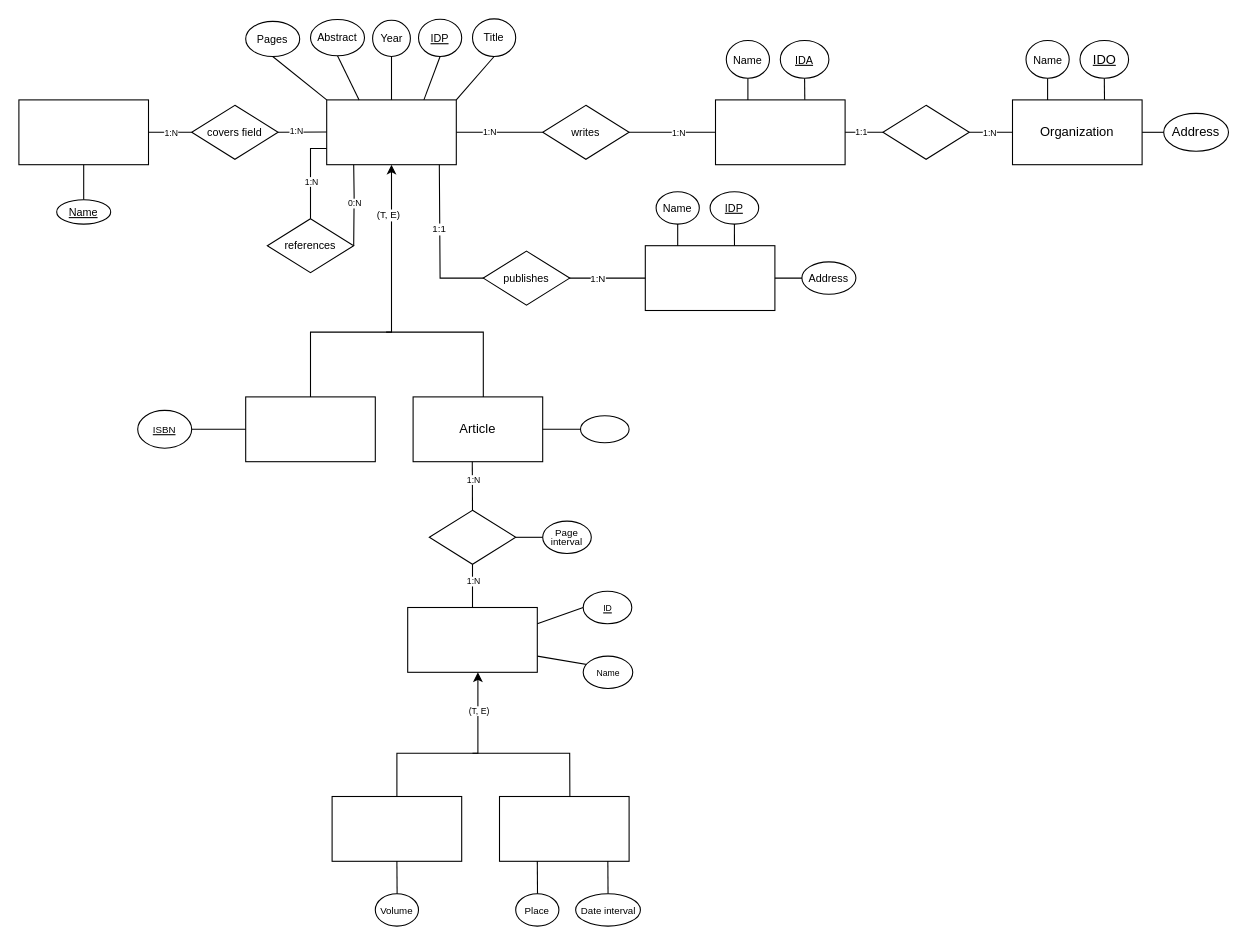
The diagram is 1247 pixels wide and 945 high, and some of its shapes have lost their labels. The shapes that lost their labels are listed below. From the top down, each one's centre as x and y in pixels, then its label:
point (83, 132): Field of Study
point (391, 132): Publication
point (779, 132): Author
point (925, 131): affiliated to
point (709, 277): Publisher
point (310, 429): Book
point (604, 429): DOI
point (472, 536): published in
point (472, 639): Venue
point (396, 828): Journal
point (563, 828): Conference
